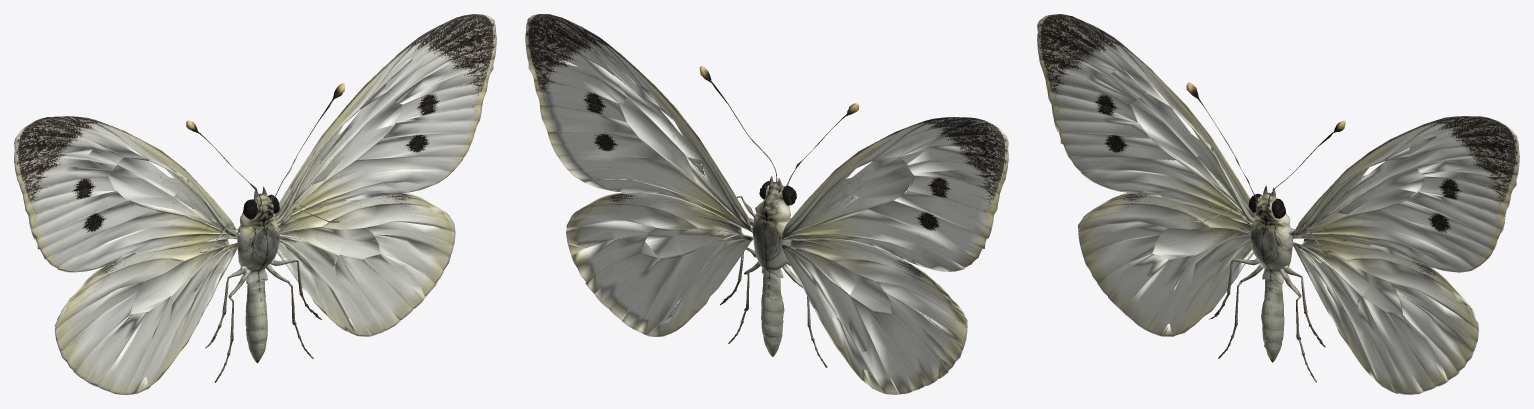
File: butterfly-adult.glb
The picture shows the model from 3 angles, left to right: view 1: azimuth 30°, elevation 25°; view 2: azimuth 150°, elevation 25°; view 3: azimuth 330°, elevation 25°; orthographic projection.
Bounding box in the file's own units: 0.9546 × 0.5635 × 0.0737.
Materials: 1 (1 with a texture image).
